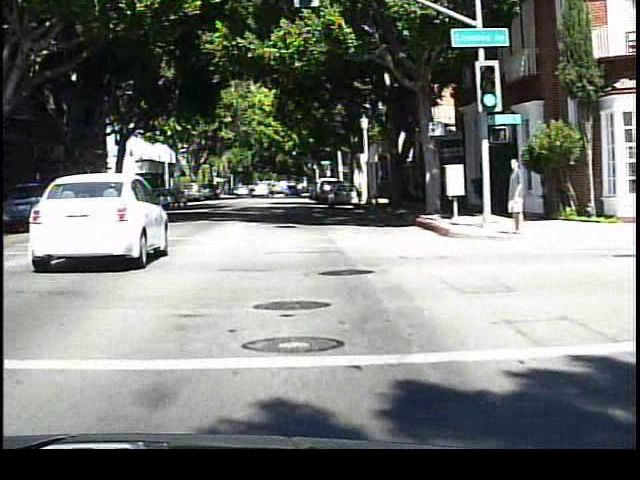person: (501, 152, 530, 238)
